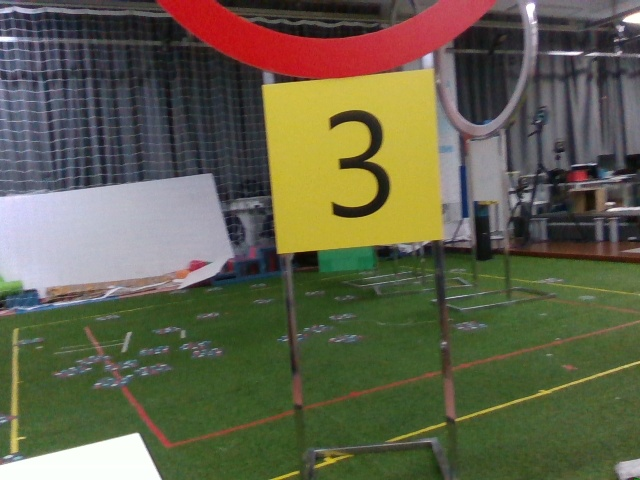target: (267, 79, 430, 243)
